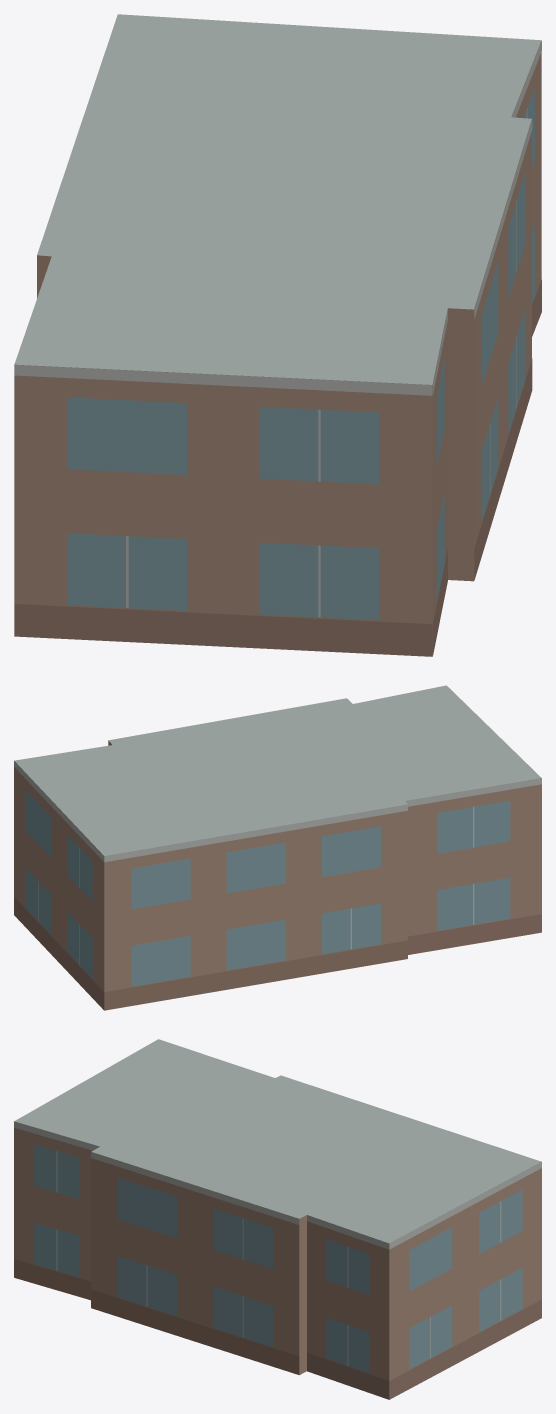
File: survey-upis-32885551.glb
The picture shows the model from 3 angles, top to bottom: view 1: azimuth 30°, elevation 25°; view 2: azimuth 150°, elevation 25°; view 3: azimuth 270°, elevation 25°; orthographic projection. The views are drawn at different scales.
Parts seen in each view (by area): view 1: survey-upis-32885551.tmp; view 2: survey-upis-32885551.tmp; view 3: survey-upis-32885551.tmp.
Part boxes in pixels (left/top/right/bottom): survey-upis-32885551.tmp: left=14, top=14, right=541, bottom=656; survey-upis-32885551.tmp: left=14, top=685, right=541, bottom=1010; survey-upis-32885551.tmp: left=14, top=1039, right=541, bottom=1399.
Bounding box in the file's own units: 17.11 × 6.1 × 18.67.
